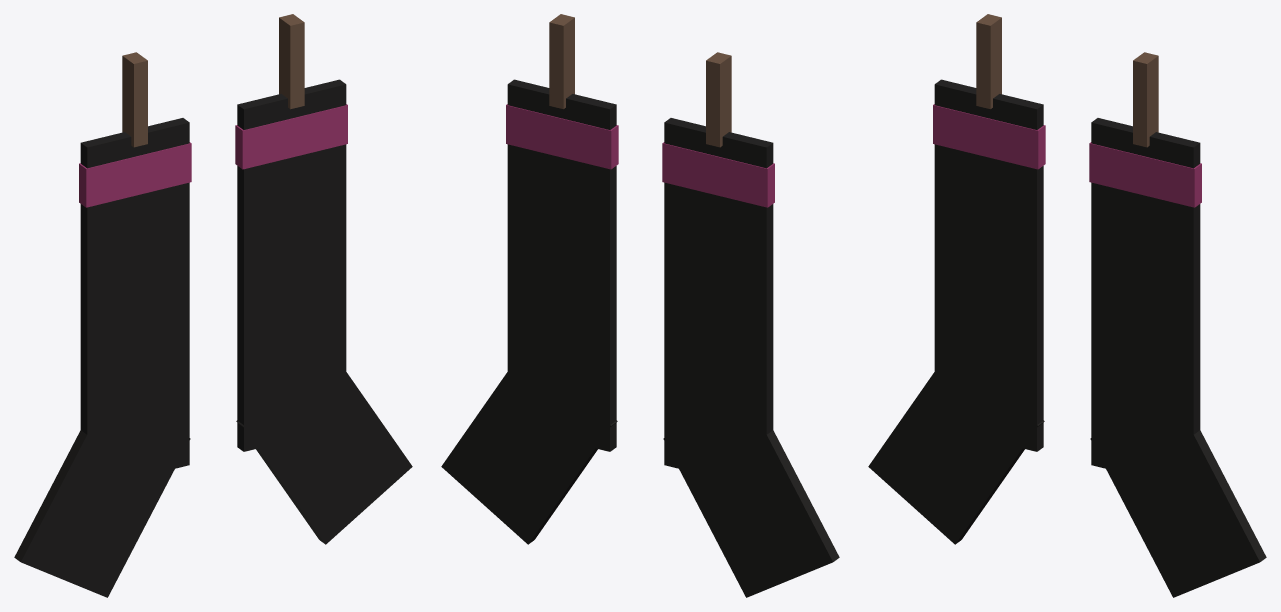
The model's file is socks-line-vibe.glb.
3 renders of one model, left to right at view 1: azimuth 30°, elevation 25°; view 2: azimuth 150°, elevation 25°; view 3: azimuth 330°, elevation 25°, orthographic.
Visible parts, largest first — view 1: rubber, accent-magenta, wood; view 2: rubber, accent-magenta, wood; view 3: rubber, accent-magenta, wood.
Part boxes in pixels (x1,y1,x2,y2): rubber: (14, 79, 412, 597); accent-magenta: (79, 104, 347, 207); wood: (122, 14, 304, 147); rubber: (441, 79, 839, 597); accent-magenta: (506, 104, 774, 207); wood: (549, 14, 731, 147); rubber: (868, 79, 1266, 597); accent-magenta: (933, 104, 1201, 207); wood: (976, 14, 1158, 147).
Bounding box in the file's own units: 0.2754 × 0.3557 × 0.014.
